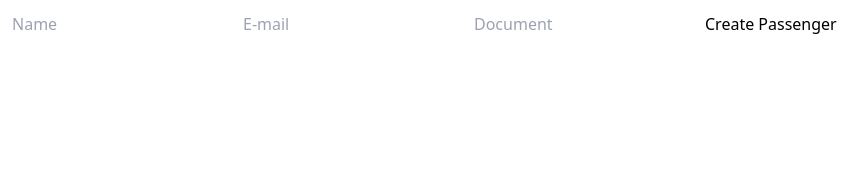
Test: Create Passenger Integration Test › should not be able create a passenger with invalid email
In the field with placeholder "Name": point(128, 24) [12,12,243,36], type "John Dow"
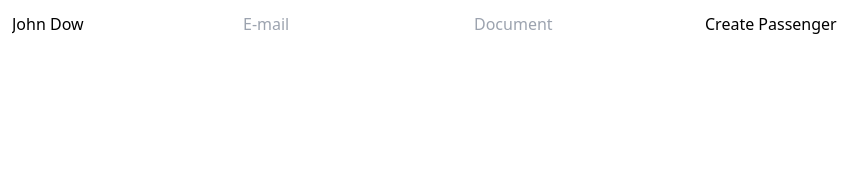
In the field with placeholder "E-mail": point(358, 24) [243,12,474,36], type "john.doe@gmail"
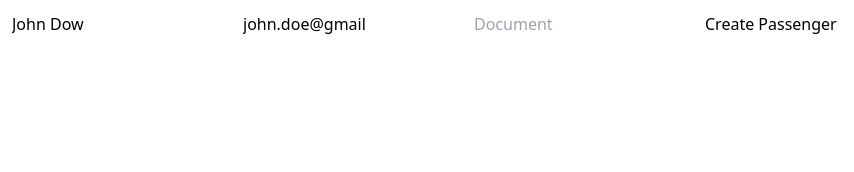
In the field with placeholder "Document": point(590, 24) [474,12,705,36], type "83432616074"
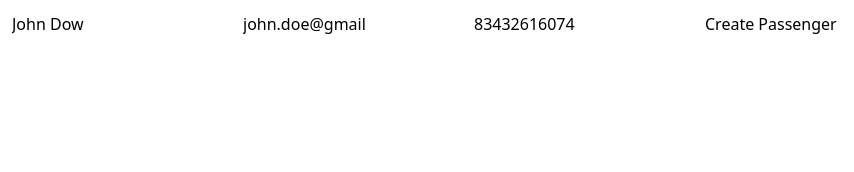
Click the button with class "create-passenger": point(771, 24) [705,12,837,36]
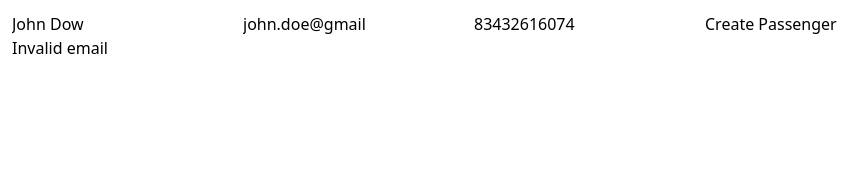
Result: the text with class "error" reads "Invalid email" at [12,37,108,59]
